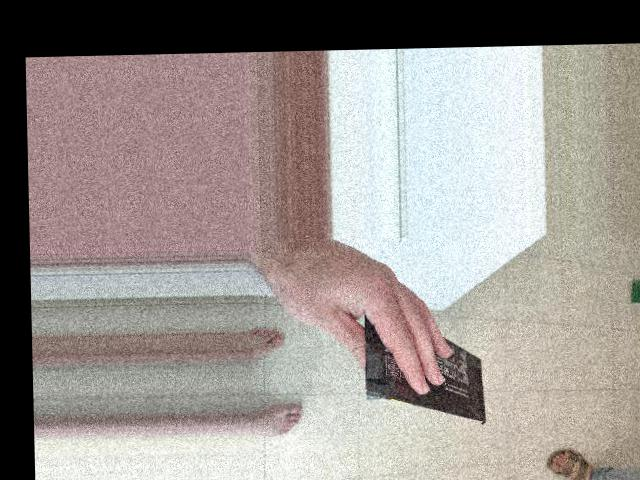chocolate: (359, 292, 495, 428)
